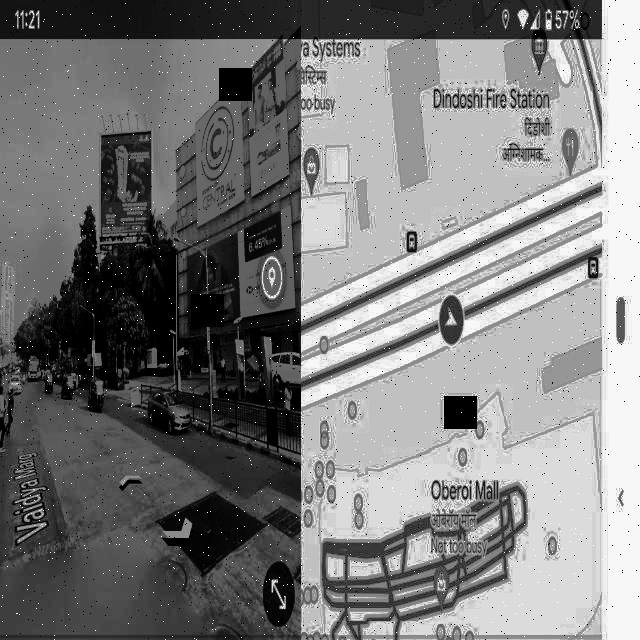Auto-Rickshaw: (87, 375, 105, 417), (42, 364, 56, 396), (61, 374, 75, 400)
